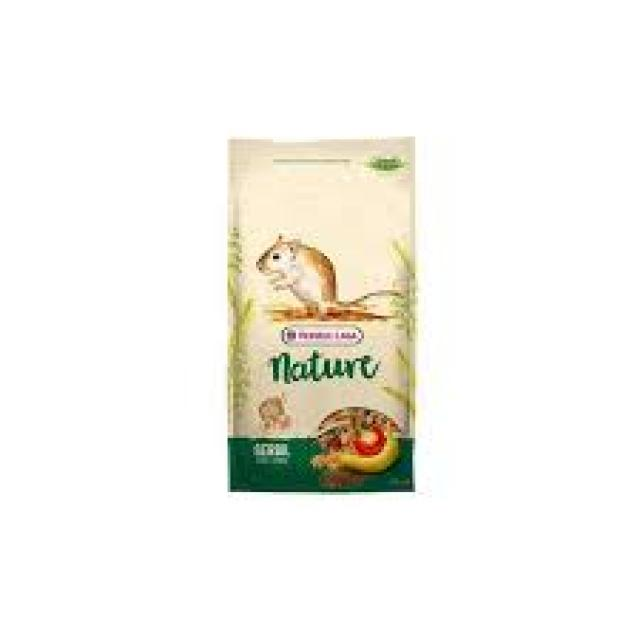rat: (253, 230, 398, 322)
